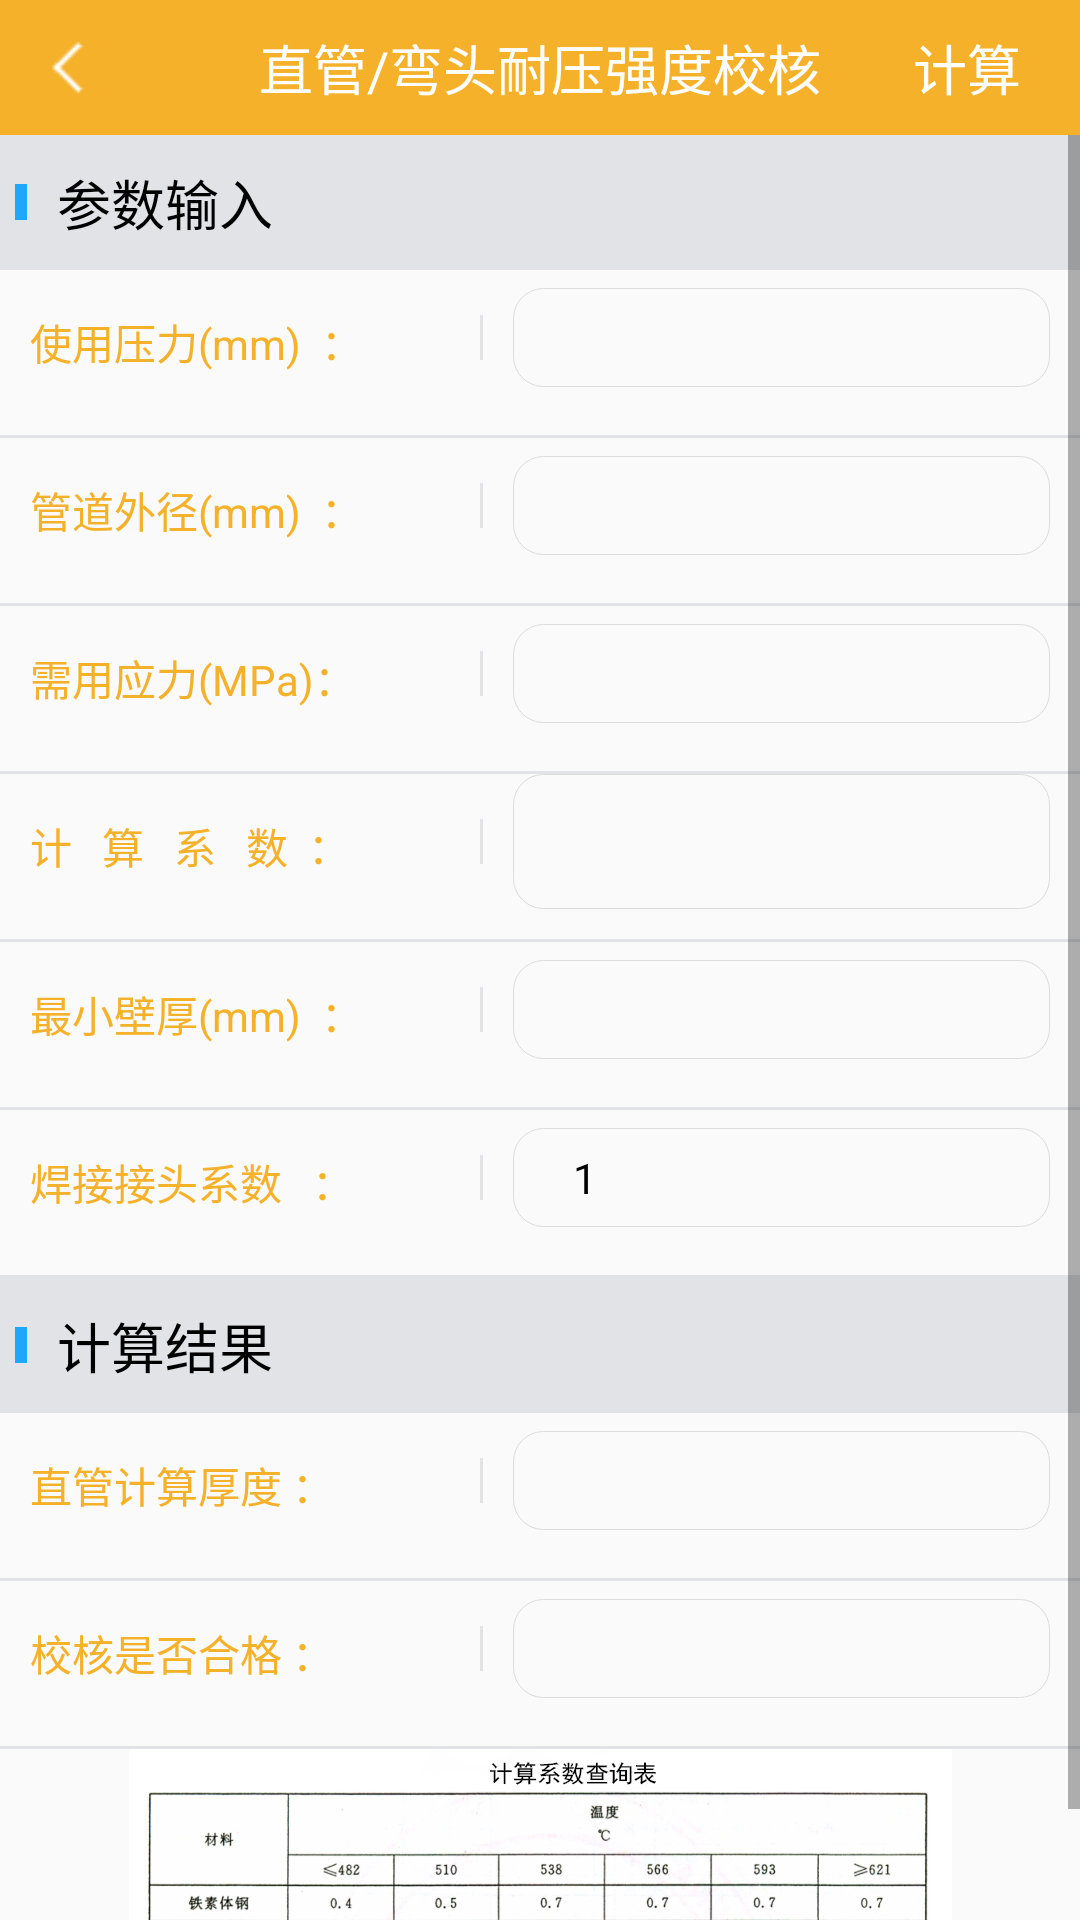

Icon click points for this 1080px x 1920px phone screenshot, format point (x, y):
back: point (67, 67)
